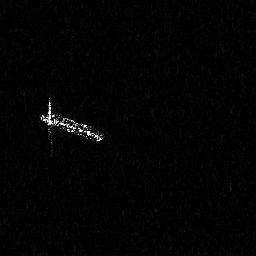ship: (37, 95, 105, 159)
